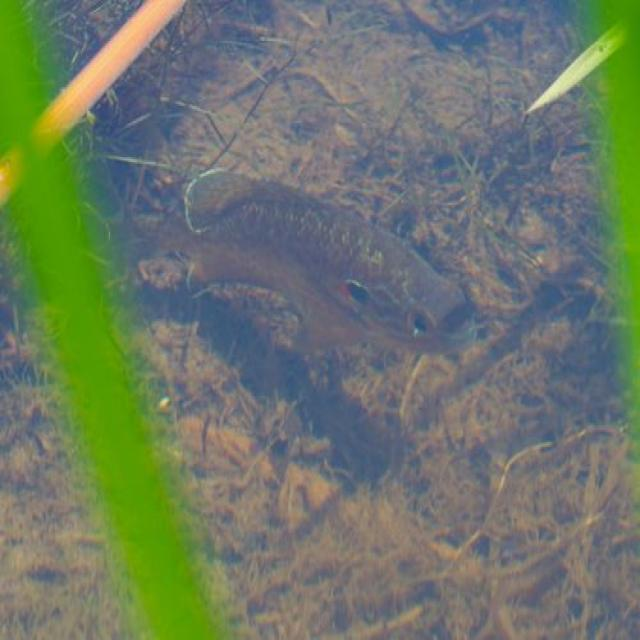Gunes Levregi: (179, 161, 485, 381)
